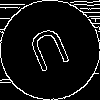U: (25, 25, 76, 82)
